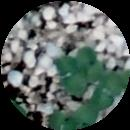Basil: (60, 58, 87, 98), (96, 72, 122, 108), (72, 104, 99, 129), (82, 47, 98, 80), (49, 114, 74, 130)
